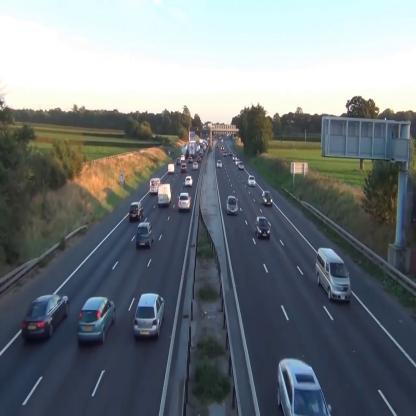car: (276, 358, 332, 416), (22, 294, 69, 340), (76, 297, 116, 345), (133, 294, 165, 339), (137, 222, 154, 247), (255, 216, 270, 238), (130, 202, 144, 221), (178, 193, 191, 211), (226, 196, 238, 214), (262, 190, 273, 207), (248, 176, 256, 187), (184, 176, 192, 186), (168, 164, 175, 173), (181, 164, 187, 172), (192, 162, 198, 170), (238, 162, 244, 170), (216, 160, 222, 167), (176, 158, 181, 164), (181, 154, 185, 161)
lorry: (316, 247, 351, 302), (157, 184, 171, 207), (150, 178, 160, 194)
